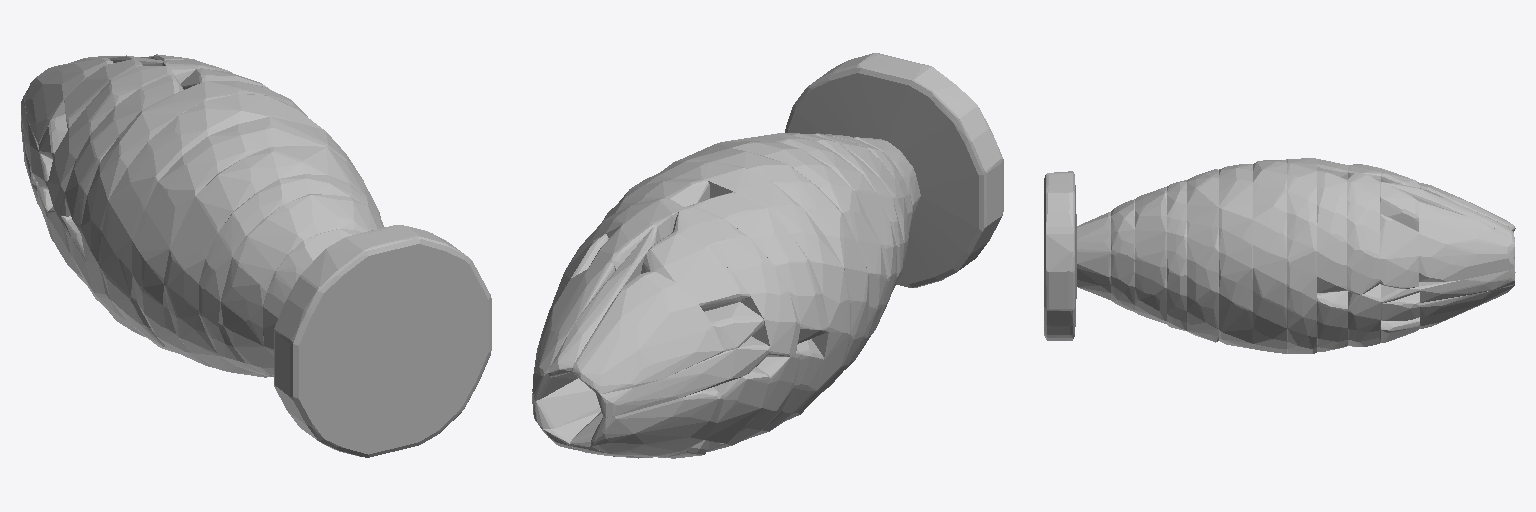
robot.urdf — root:
<?xml version="1.0"?>
<robot name="root">
  <link name="base_link">
    <visual>
      <origin xyz="0 0 0" rpy="0 0 0" />
      <geometry>
        <mesh filename="../meshes/unidex_core_jar-5e1c630396c0a1ce30cbeaf8f6d93761_006.obj" scale="1.0000E+00 1.0000E+00 1.0000E+00" />
      </geometry>
      <material name="">
        <color rgba="7.50E-01 7.50E-01 7.50E-01 1" />
      </material>
    </visual>
    <collision>
      <origin xyz="0 0 0" rpy="0 0 0" />
      <geometry>
        <mesh filename="../meshes/unidex_core_jar-5e1c630396c0a1ce30cbeaf8f6d93761_006.obj" scale="1.0000E+00 1.0000E+00 1.0000E+00" />
      </geometry>
    </collision>
  </link>
</robot>

--- What the picture shows (computed from the rendered views, not written in the file) ---
The picture shows the robot from 3 angles, left to right: view 1: azimuth 30°, elevation 25°; view 2: azimuth 150°, elevation 25°; view 3: azimuth 270°, elevation 25°; orthographic projection.
Robot: root — 1 links, 0 joints (none); root link base_link; default pose: all joints at 0.
Visible links, largest first — view 1: base_link; view 2: base_link; view 3: base_link.
Link boxes in pixels (x1,y1,x2,y2): base_link: (21,54,491,457); base_link: (532,53,1003,458); base_link: (1044,158,1515,353).
Size in the robot's own frame: 0.046 by 0.1115 by 0.046 metres.
1 mesh visuals loaded from 1 distinct referenced files (1 OBJ).
